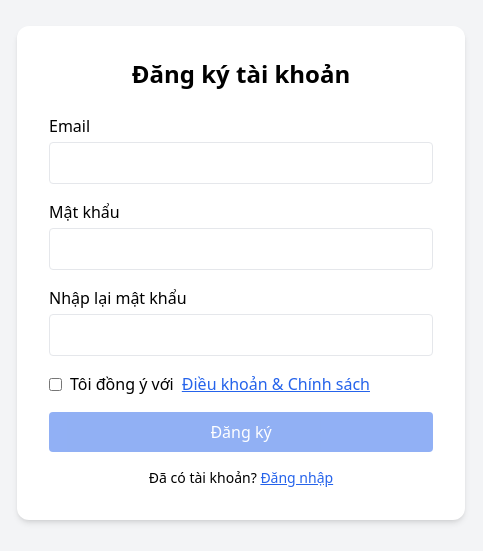
RegisterPage › báo lỗi khi email sai định dạng
In the field labelled "Email": [241, 163] box [49,142,433,184], type "sai-email"
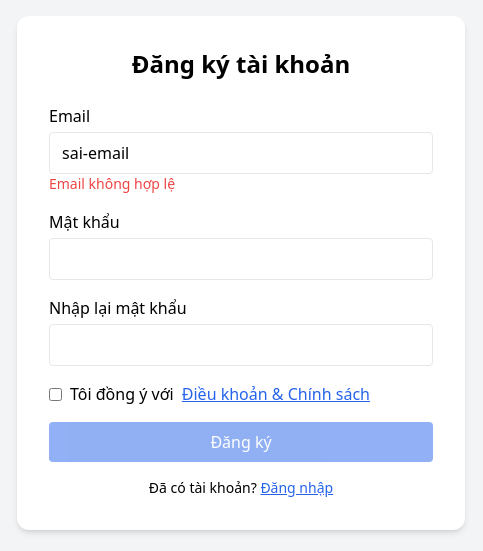
Now the text "Email không hợp lệ" is shown, box [49,174,175,193]
